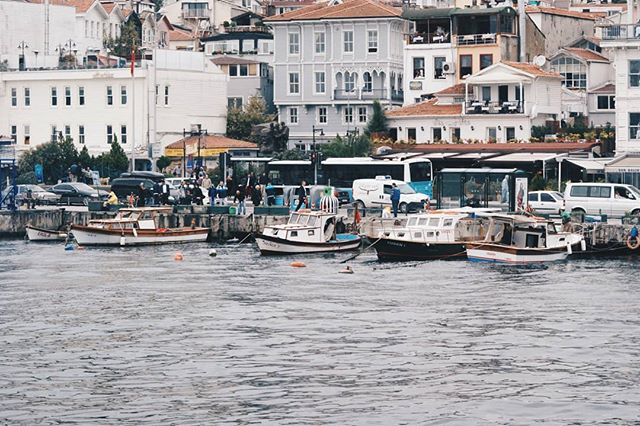boat: (461, 199, 598, 278), (56, 206, 210, 255), (363, 205, 490, 258), (240, 204, 367, 257)
building: (1, 46, 214, 153), (260, 1, 402, 155), (409, 67, 558, 144), (406, 5, 507, 102), (585, 1, 640, 147)
river: (22, 249, 640, 426)
